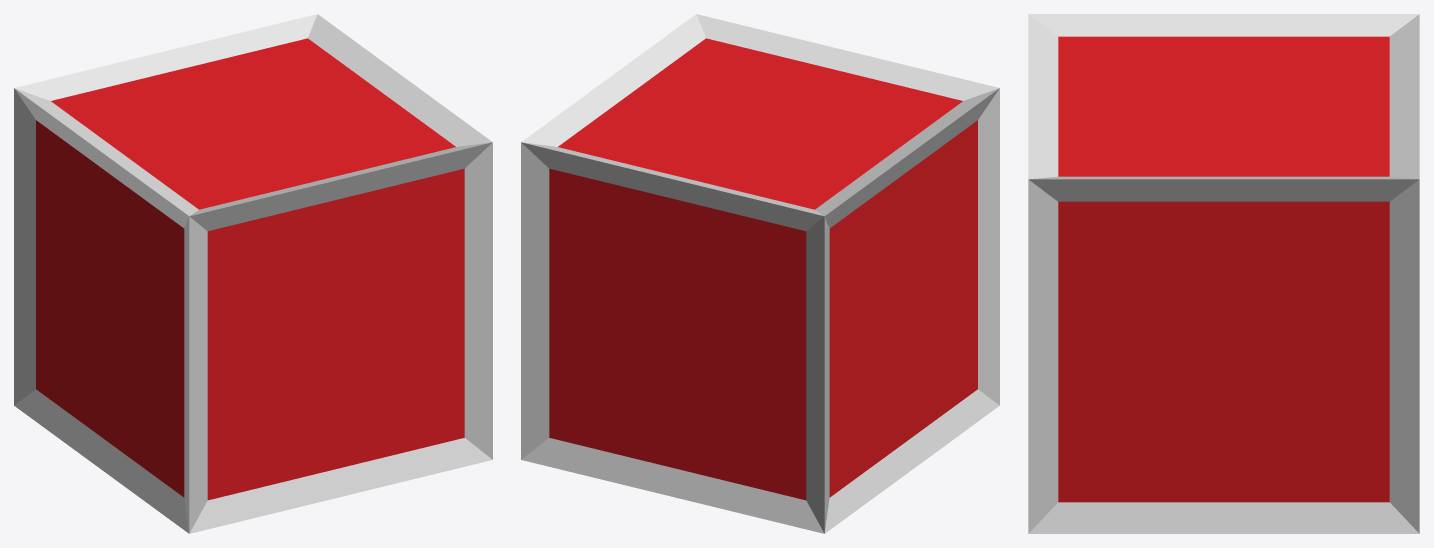
The model's file is Neon_Cube_Red.fbx.
The picture shows the model from 3 angles, left to right: view 1: azimuth 30°, elevation 25°; view 2: azimuth 150°, elevation 25°; view 3: azimuth 270°, elevation 25°; orthographic projection. The views are drawn at different scales.
Visible parts, largest first — view 1: Main_Cube, Neon_Cube; view 2: Main_Cube, Neon_Cube; view 3: Main_Cube, Neon_Cube.
Boxes of the visible parts, <box> form: Main_Cube: <box>36,38,464,500</box>; Neon_Cube: <box>14,14,492,533</box>; Main_Cube: <box>549,38,977,500</box>; Neon_Cube: <box>521,14,999,533</box>; Main_Cube: <box>1058,36,1389,502</box>; Neon_Cube: <box>1028,14,1419,533</box>.
Bounding box in the file's own units: 2.12 × 2.12 × 2.12.
